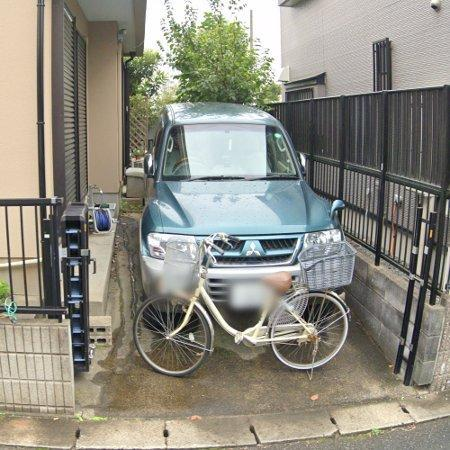bicycles: (134, 230, 357, 378)
